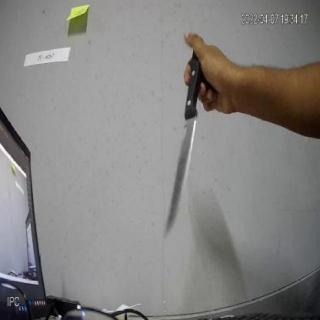knife: (161, 41, 209, 243)
